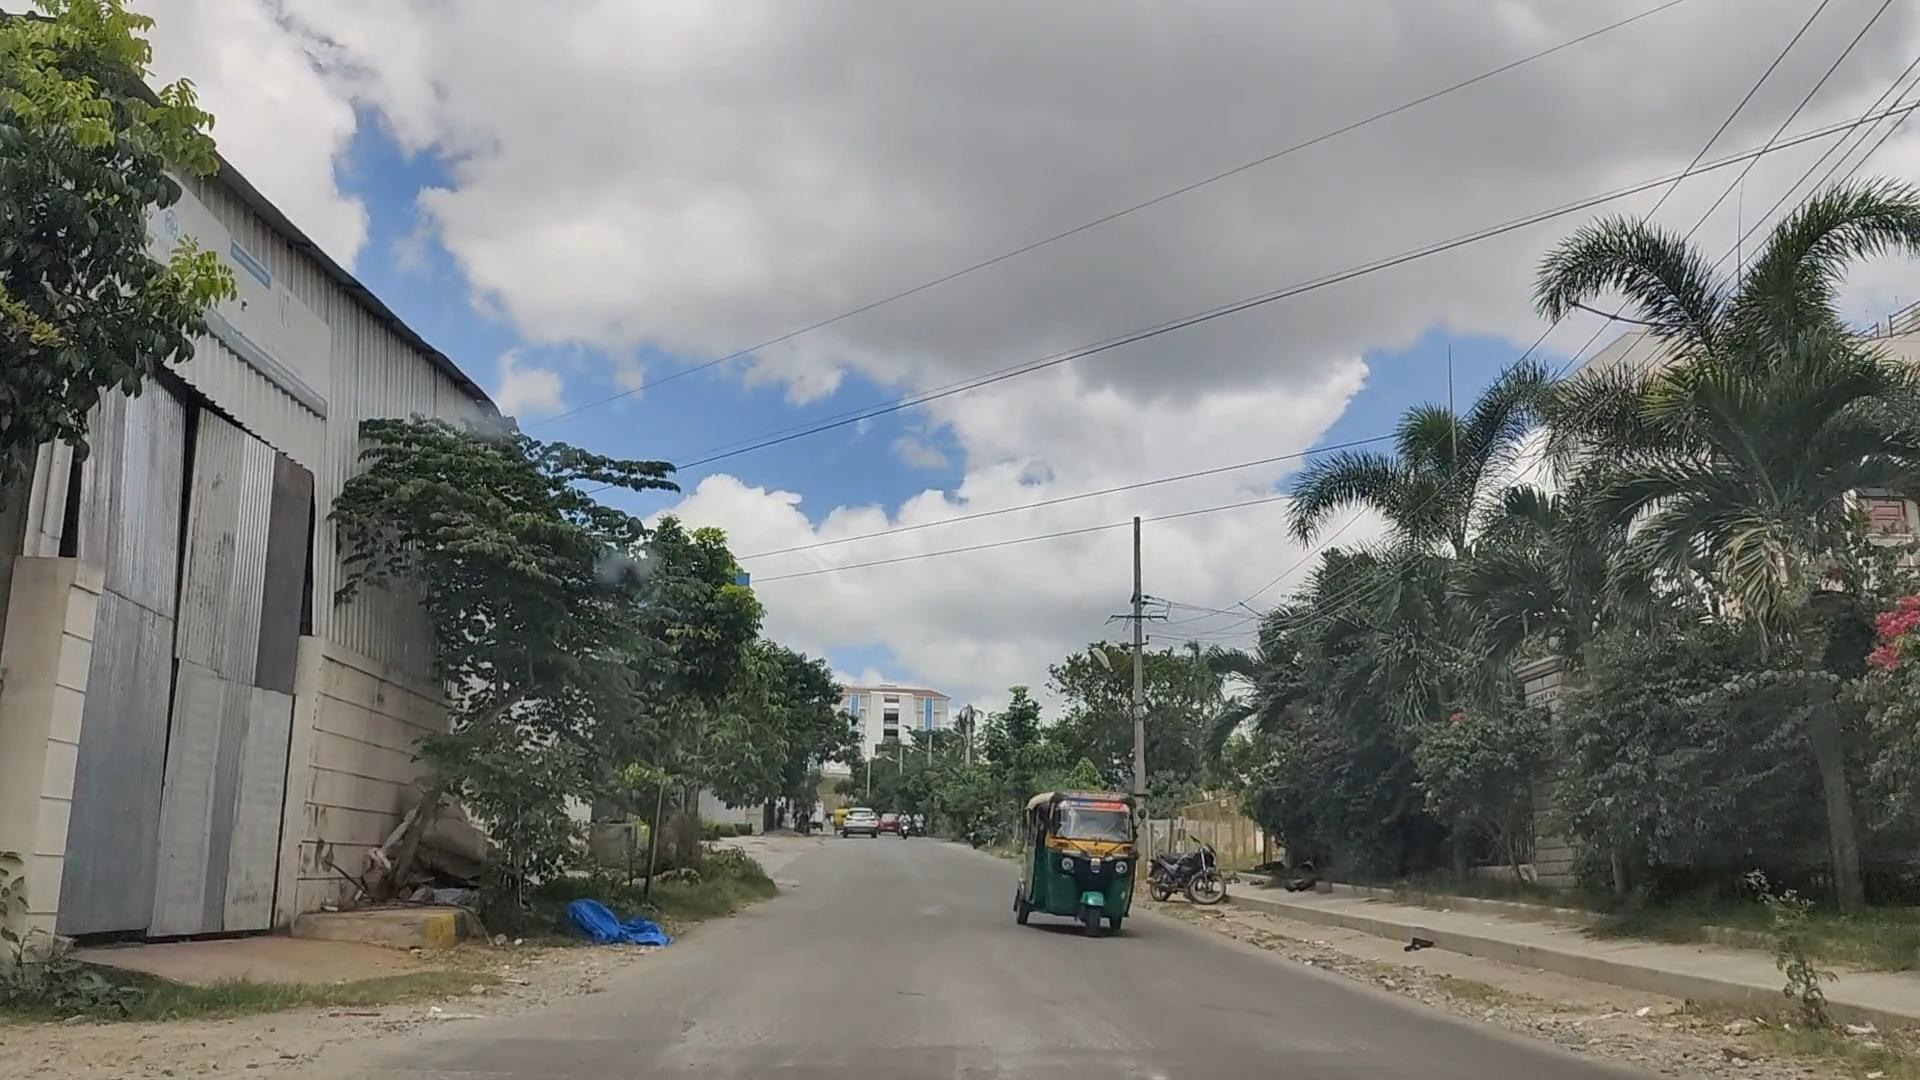LMV: (1008, 774, 1159, 958)
